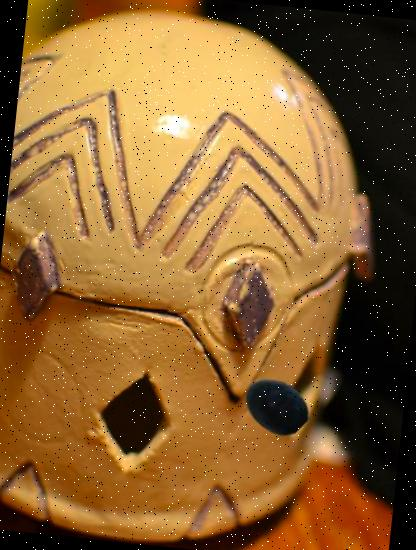Blueberry: (239, 369, 312, 442)
